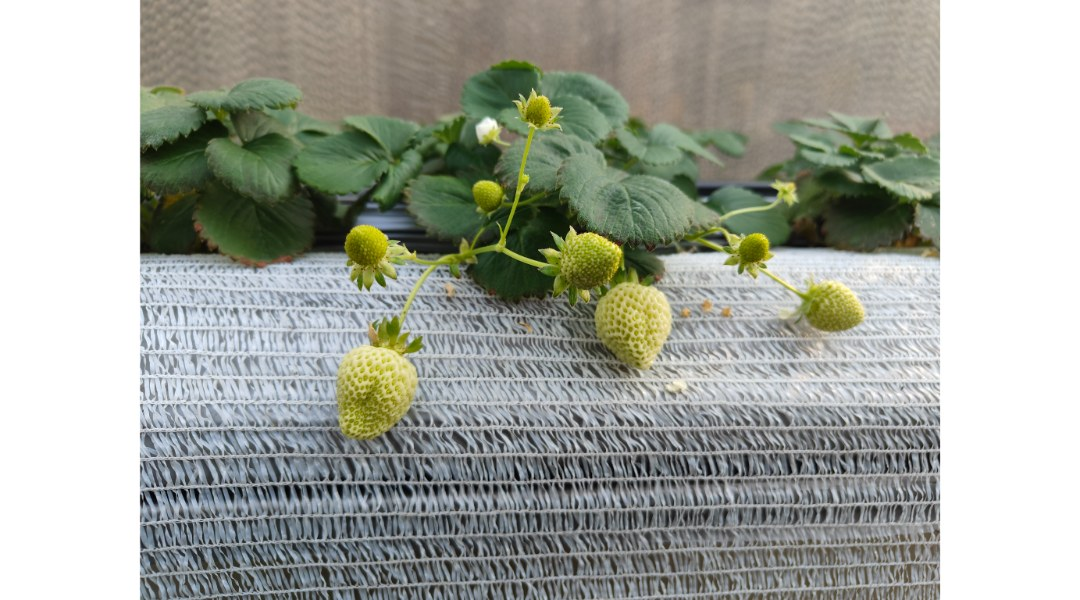berry: (331, 317, 428, 447), (594, 276, 671, 390), (545, 224, 629, 302), (786, 276, 875, 340), (340, 220, 396, 290), (508, 80, 571, 142), (719, 224, 770, 281), (460, 177, 511, 215), (771, 177, 813, 209)
flower: (474, 112, 504, 147)
strain: (497, 127, 536, 241), (398, 273, 434, 338), (759, 268, 812, 308), (505, 249, 561, 273), (724, 202, 782, 213)
